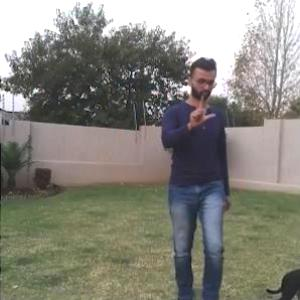land_hand: (183, 96, 216, 131)
